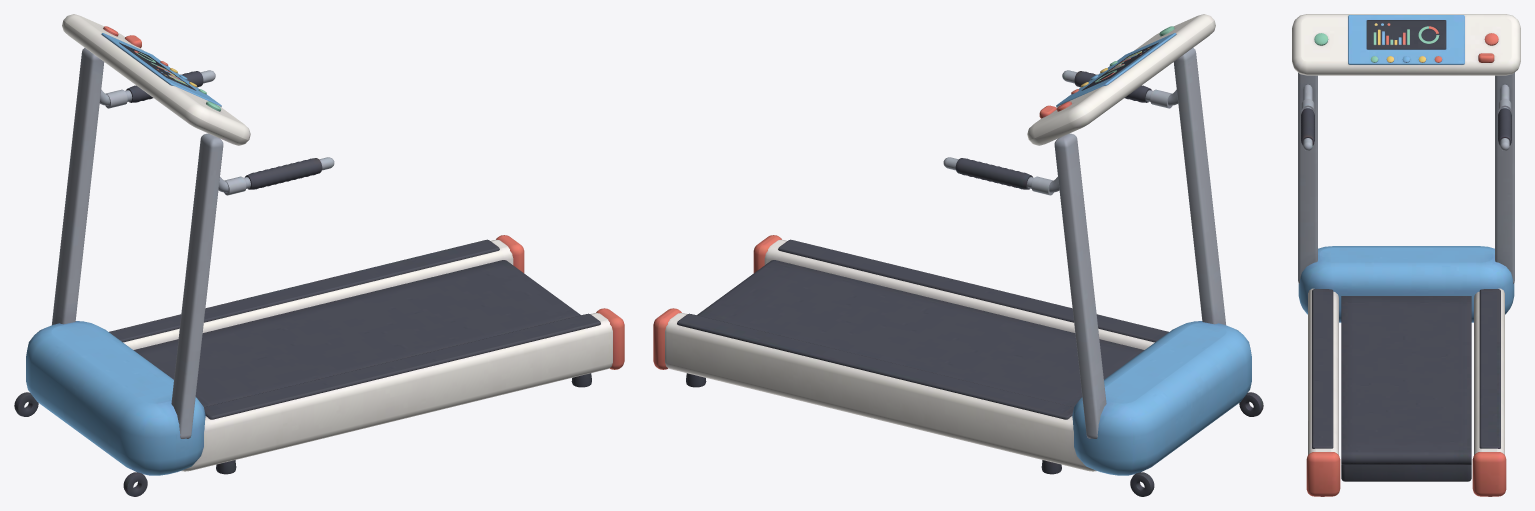
The model's file is g3-treadmill.glb.
3 renders of one model, left to right at view 1: azimuth 30°, elevation 25°; view 2: azimuth 150°, elevation 25°; view 3: azimuth 270°, elevation 25°, orthographic. The views are drawn at different scales.
Visible parts, largest first — view 1: treadmill_body; view 2: treadmill_body; view 3: treadmill_body.
Boxes of the visible parts, bbox=[...] form: treadmill_body: bbox=[14, 14, 624, 496]; treadmill_body: bbox=[653, 14, 1263, 496]; treadmill_body: bbox=[1292, 14, 1520, 496].
Size of the model in its own units: 1.79 by 1.32 by 0.86.
Materials: 1 (1 with a texture image).
